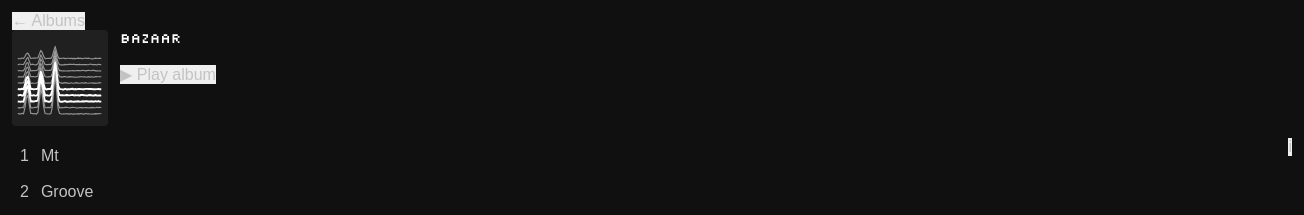
Test: Tracklist › shows blurb toggles only for tracks with blurbs
Expected: the text "Written on a train." is not shown
Step 1. Click the button named "About " → {"x": 1290, "y": 147}, box [1288,138,1292,156]
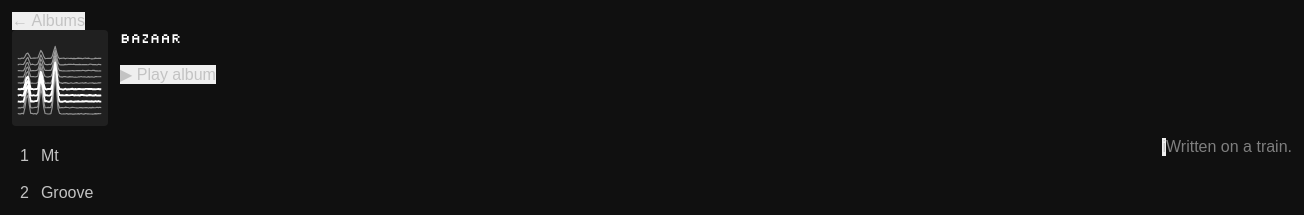
Expected: the text "Written on a train." is shown, [1166,138,1292,156]
Step 2. Click the button named "About " → {"x": 1164, "y": 147}, box [1162,138,1166,156]
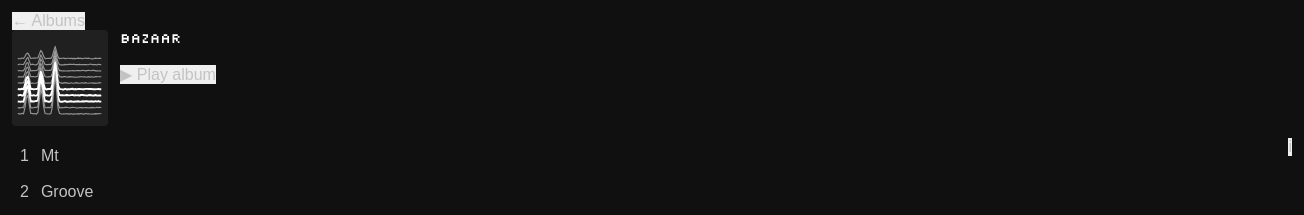
Expected: the text "Written on a train." is gone
